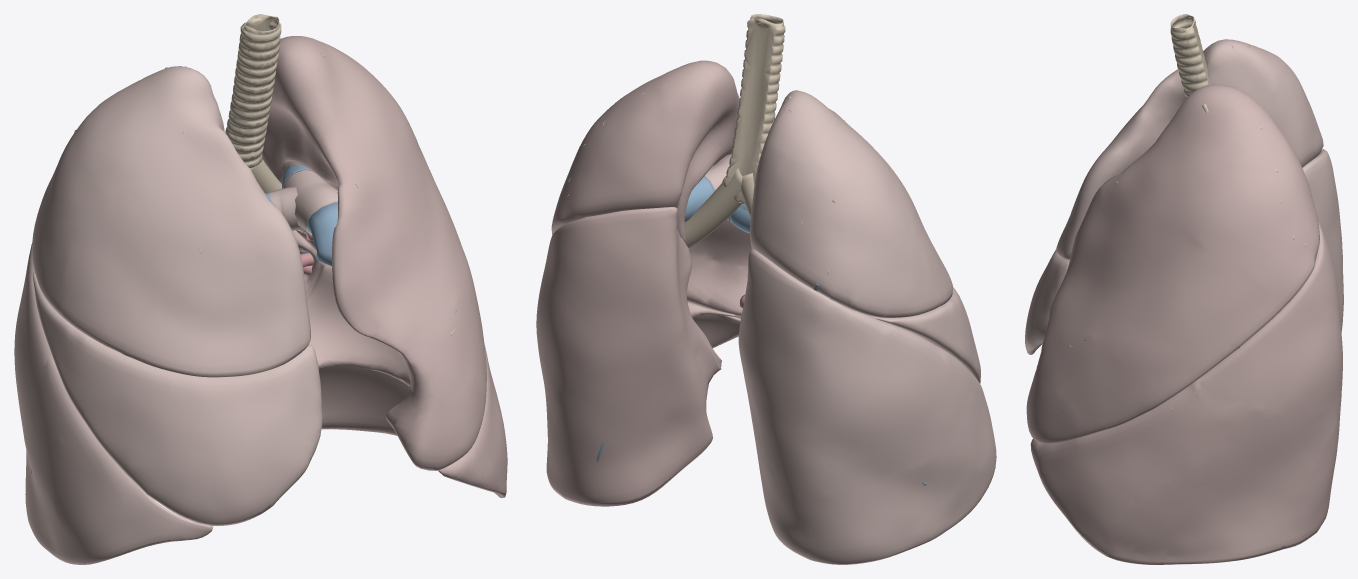
The picture shows the model from 3 angles, left to right: view 1: azimuth 30°, elevation 25°; view 2: azimuth 150°, elevation 25°; view 3: azimuth 270°, elevation 25°; orthographic projection. The views are drawn at different scales.
Parts seen in each view (by area): view 1: z_a9ef8fd56ad9, z_d81394c12f3a, z_5d6b594ee9f5, z_b8281e7a6657, z_55fb05692bfa, z_f6084597cefd, z_12d8bfd9c4ac, z_cd7e10b1cd7e; view 2: z_b8281e7a6657, z_55fb05692bfa, z_a9ef8fd56ad9, z_d81394c12f3a, z_f6084597cefd, z_5d6b594ee9f5, z_26bb69dcb130, z_89305b2b4895; view 3: z_d81394c12f3a, z_55fb05692bfa, z_a9ef8fd56ad9, z_b8281e7a6657, z_f6084597cefd, z_5d6b594ee9f5.
Part boxes in pixels (x1,y1,x2,y2): z_a9ef8fd56ad9: (32,66,310,377); z_d81394c12f3a: (262,36,486,470); z_5d6b594ee9f5: (33,272,322,525); z_b8281e7a6657: (14,243,213,564); z_55fb05692bfa: (292,230,507,498); z_f6084597cefd: (225,14,281,167); z_12d8bfd9c4ac: (267,169,337,235); z_cd7e10b1cd7e: (306,202,337,265); z_b8281e7a6657: (738,249,996,564); z_55fb05692bfa: (536,207,740,506); z_a9ef8fd56ad9: (750,90,952,317); z_d81394c12f3a: (551,60,751,318); z_f6084597cefd: (722,14,785,204); z_5d6b594ee9f5: (868,287,980,383); z_26bb69dcb130: (684,168,742,248); z_89305b2b4895: (684,176,714,221); z_d81394c12f3a: (1026,84,1319,443); z_55fb05692bfa: (1030,221,1342,564); z_a9ef8fd56ad9: (1056,39,1323,259); z_b8281e7a6657: (1302,149,1343,332); z_f6084597cefd: (1170,14,1211,97); z_5d6b594ee9f5: (1025,249,1069,354).
Size of the model in its own units: 1.6 by 1.8 by 1.14.
